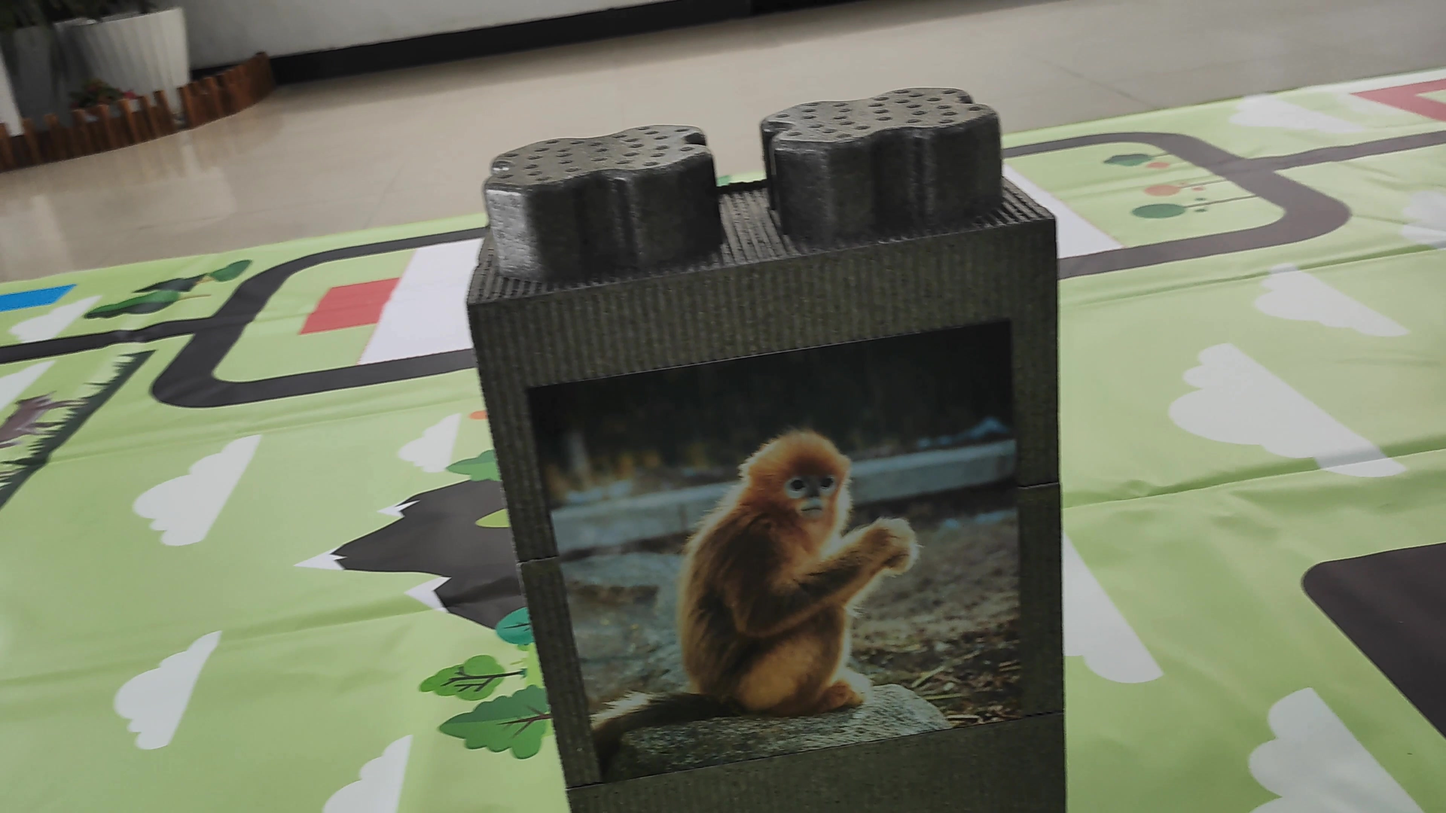monkey: (615, 370, 940, 731)
